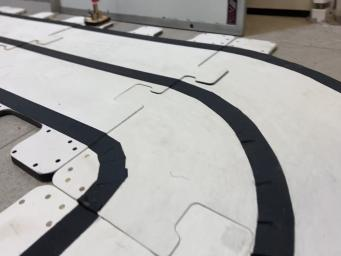street: (0, 12, 341, 256), (0, 12, 341, 256), (0, 12, 341, 256), (0, 12, 341, 256), (0, 12, 341, 256), (0, 12, 341, 256)
